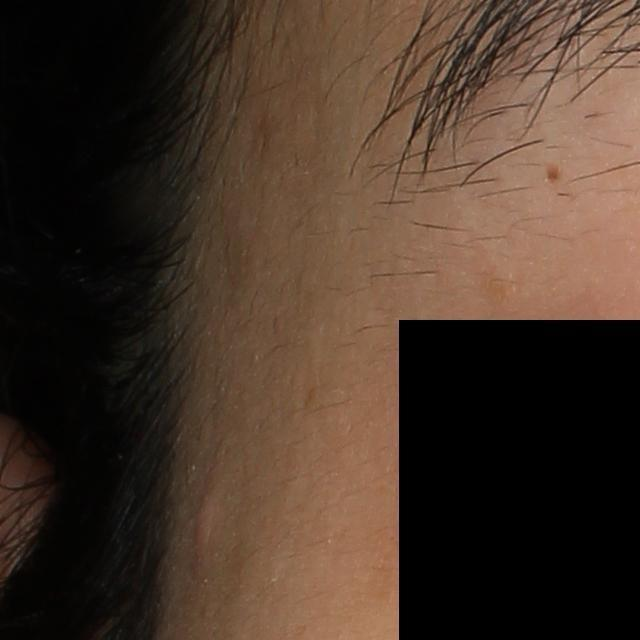nevus: (543, 159, 561, 185)
papule: (190, 489, 219, 563)
